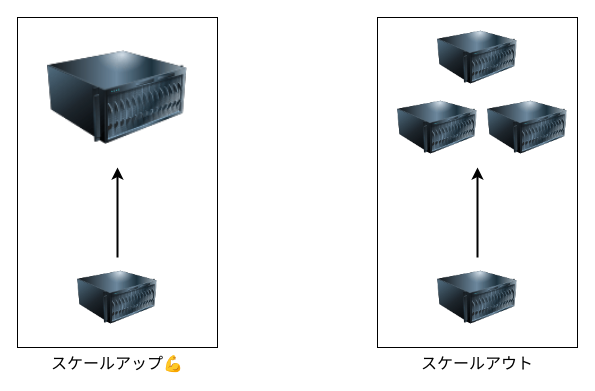
Image size: 595x391. Some labels were removed from this diagram. Here are the shapes that lost their labels. From the top down, the box of each, then its label:
(47, 27, 187, 167): 2CPU 8GB
(77, 257, 157, 337): 1CPU 4GB
